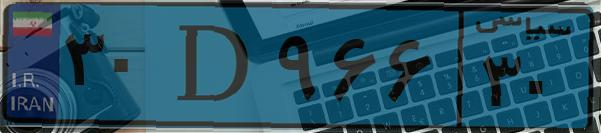0: (525, 38, 570, 115), (110, 28, 158, 98)
3: (57, 26, 110, 100), (475, 38, 525, 113)
6: (385, 28, 445, 110), (330, 28, 385, 110)
9: (270, 28, 330, 110)
D: (158, 12, 270, 120)
